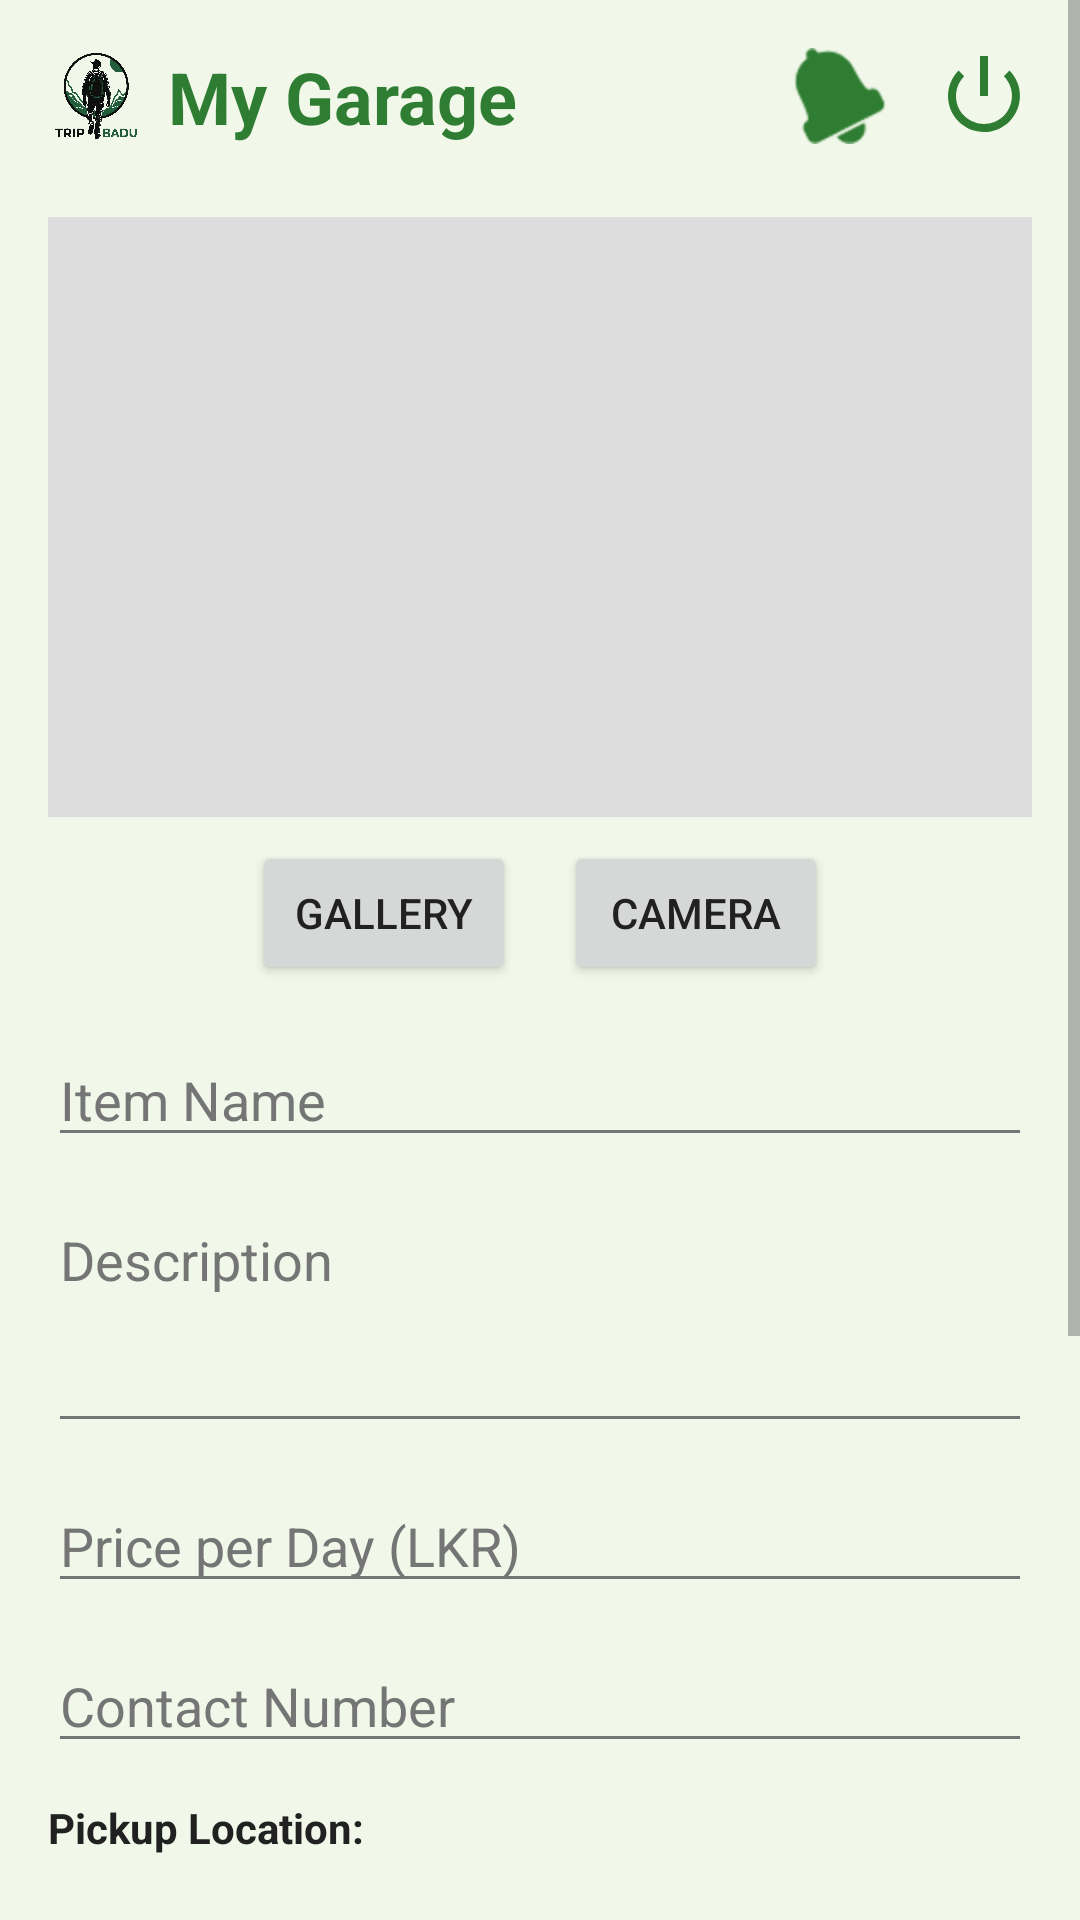

Icon bounding boxes for this 1080 × 1920 phone screenshot, format [left=x1, top=y1, right=x2, bottom=y2]:
Notifications: [left=795, top=48, right=885, bottom=144]
